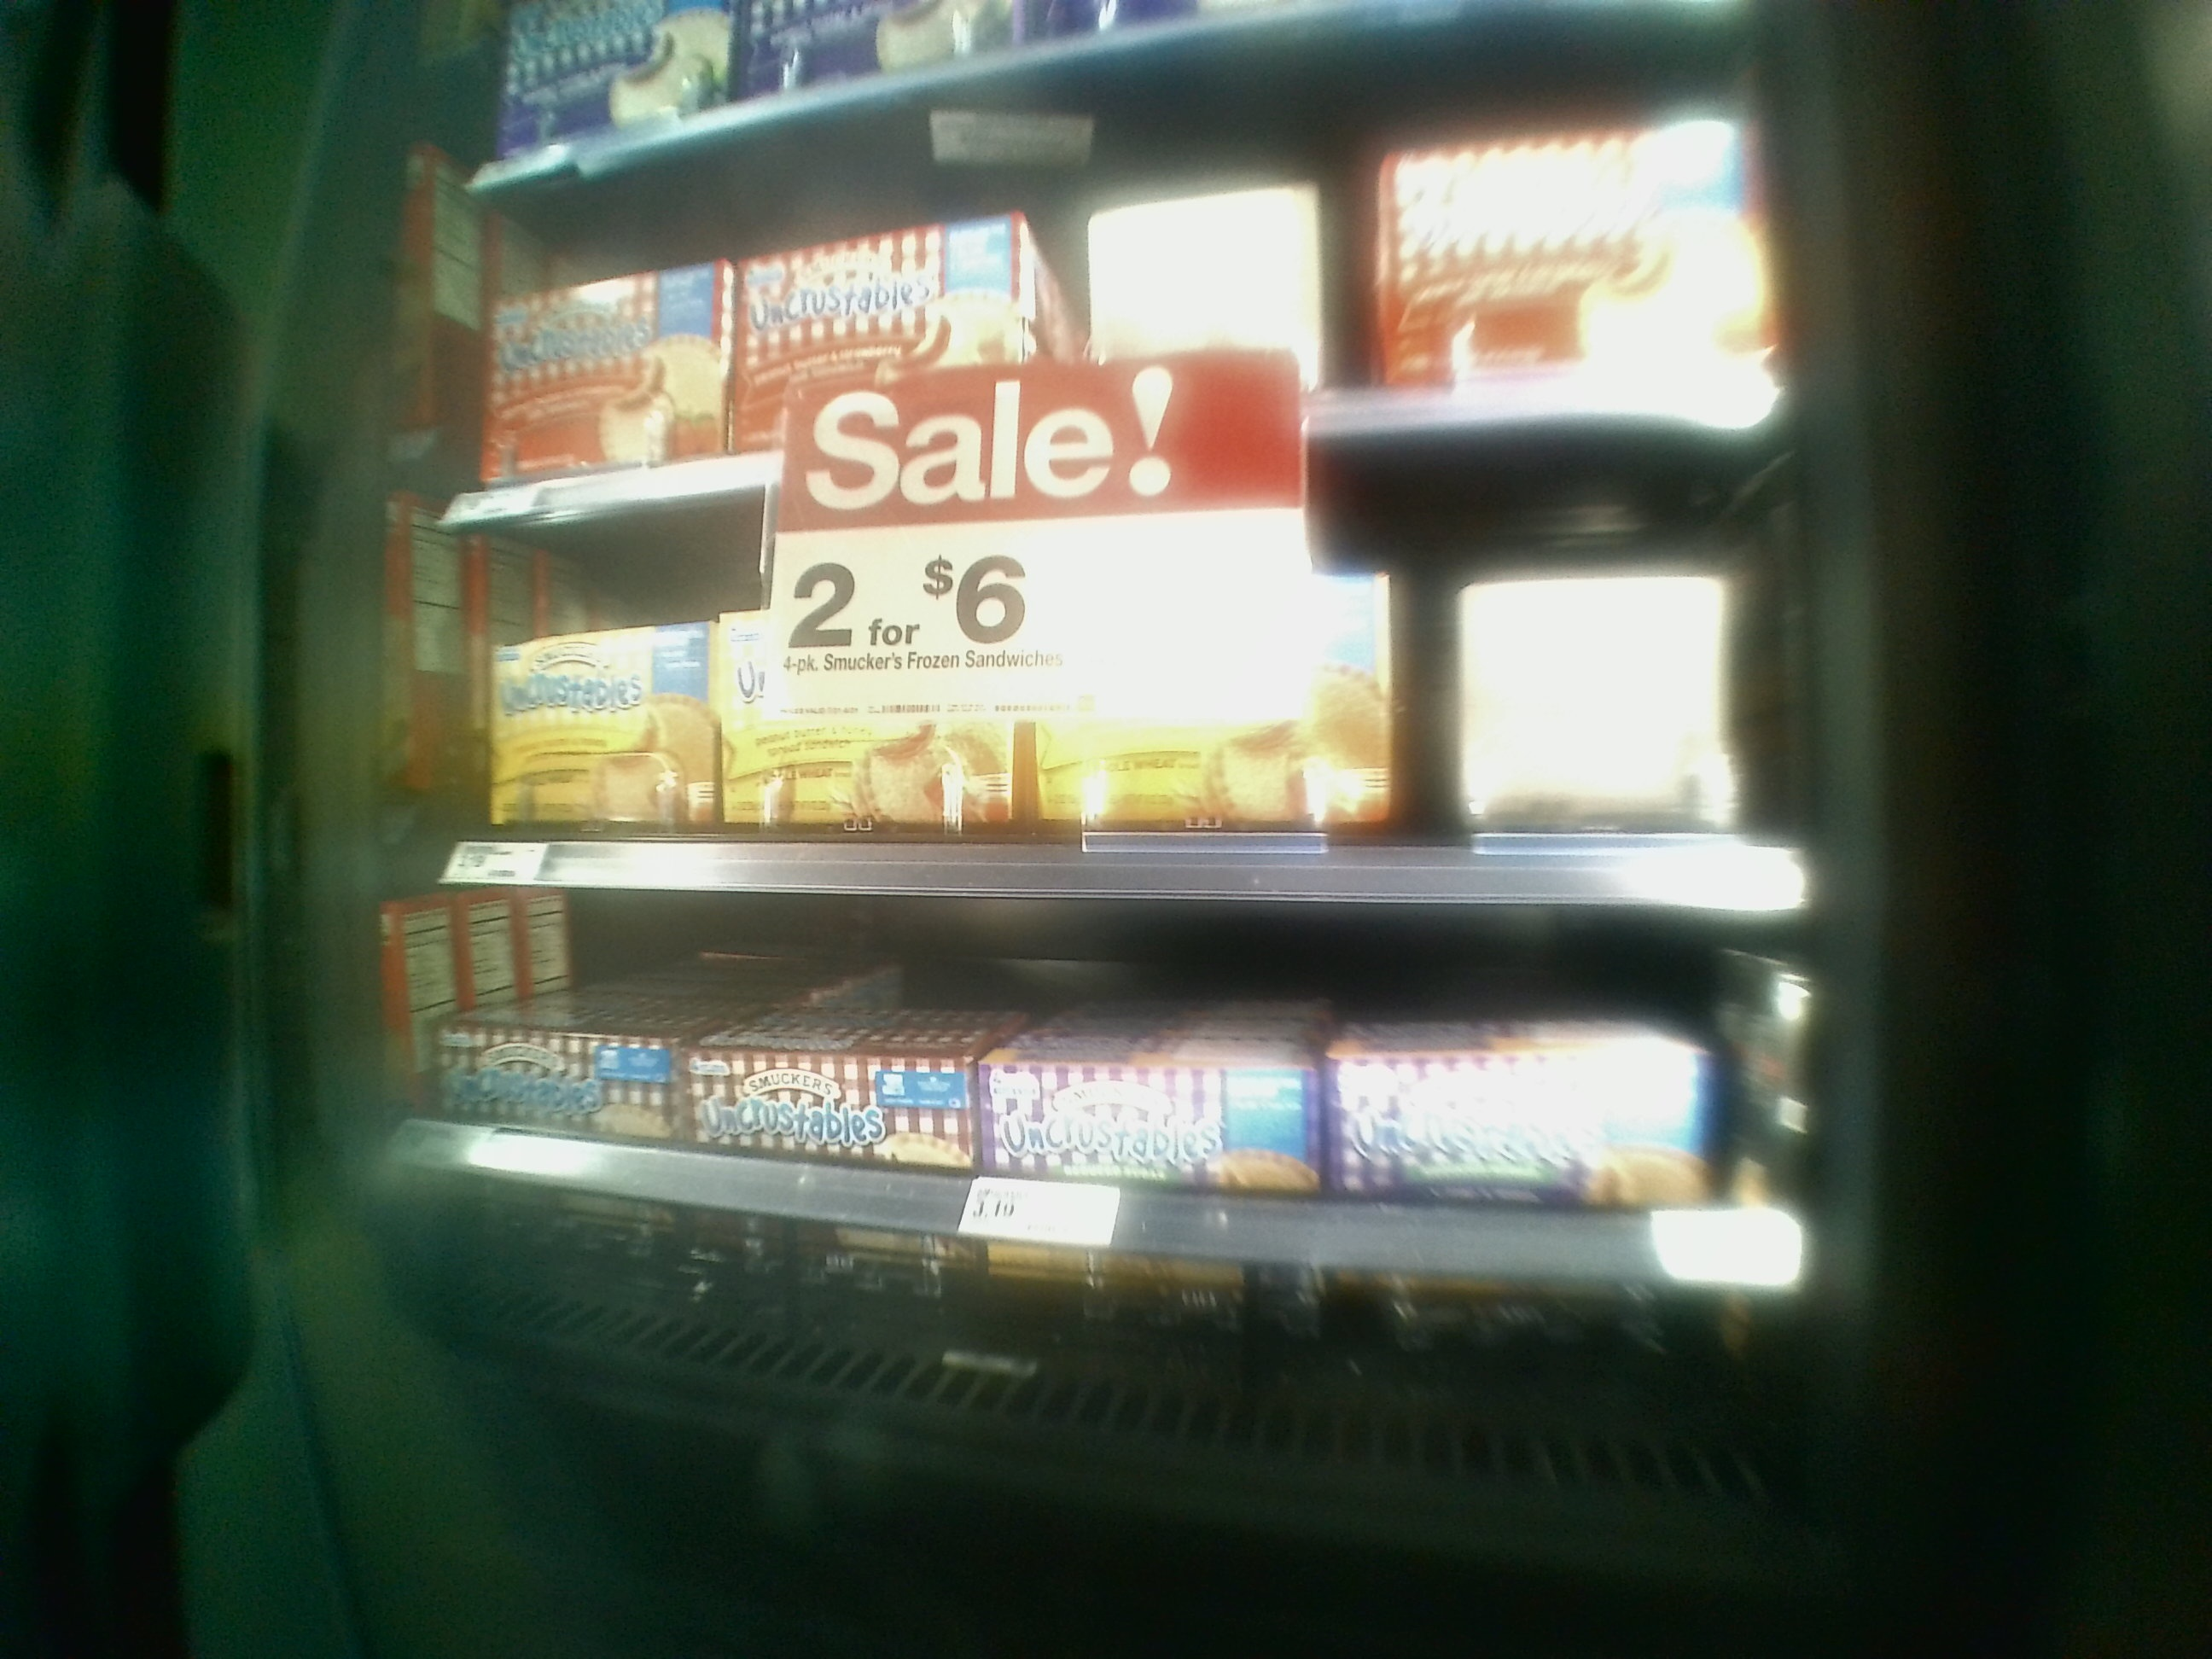shelf: (420, 871, 1815, 1453), (444, 497, 1804, 903)
